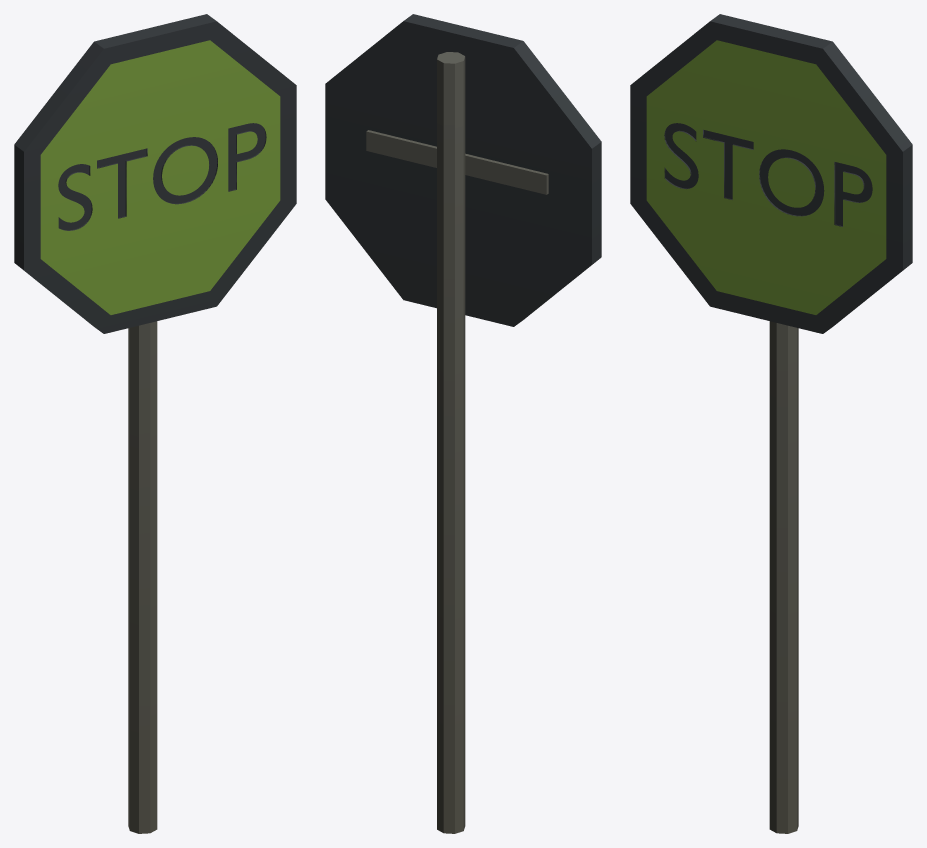
File: RoadSign_01.fbx
3 renders of one model, left to right at view 1: azimuth 30°, elevation 25°; view 2: azimuth 150°, elevation 25°; view 3: azimuth 330°, elevation 25°, orthographic. The views are drawn at different scales.
Visible parts, largest first — view 1: RoadSign_01; view 2: RoadSign_01; view 3: RoadSign_01.
Part boxes in pixels (box(x1,y1,x2,y2)): RoadSign_01: box(14, 14, 296, 833); RoadSign_01: box(325, 14, 601, 833); RoadSign_01: box(630, 14, 912, 833).
Size of the model in its own units: 0.6386 by 1.8 by 0.1018.
